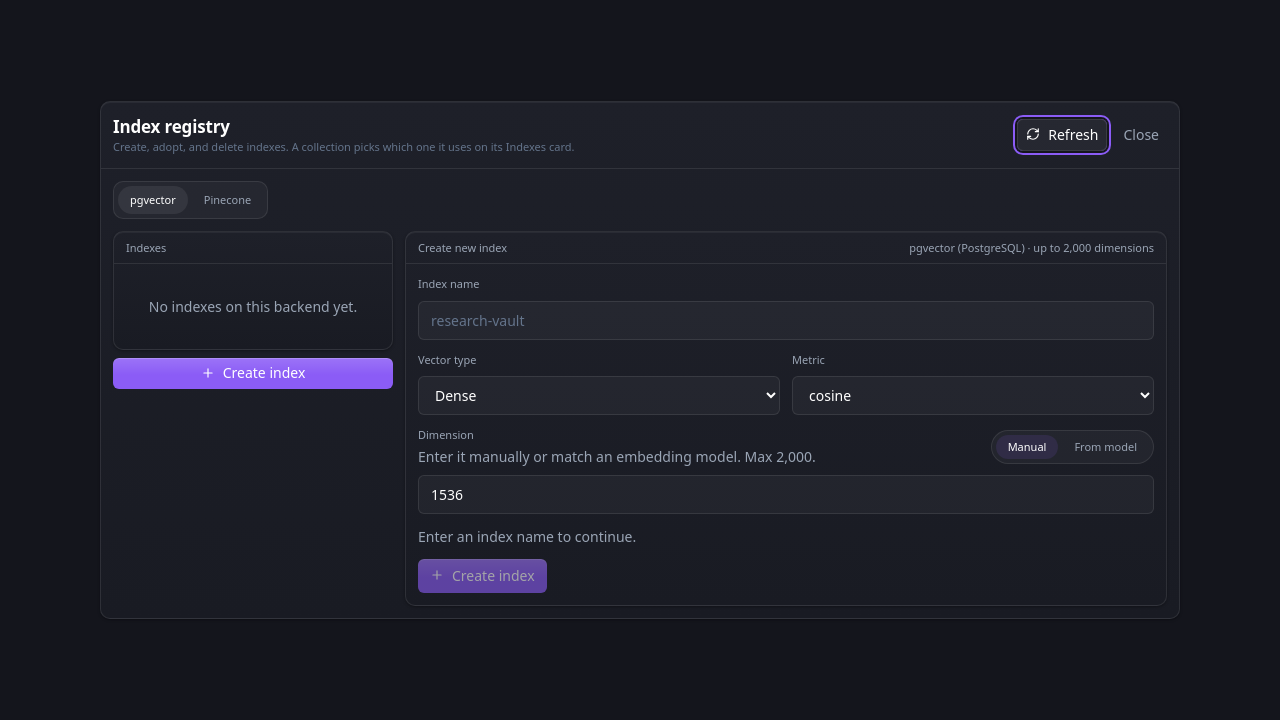
Test: IndexRegistryModal › clears a stale error banner when a create retry succeeds
The image size is (1280, 720).
In the field with placeholder "research-vault": coordinates (786, 320) [418,301,1154,340], type "index"
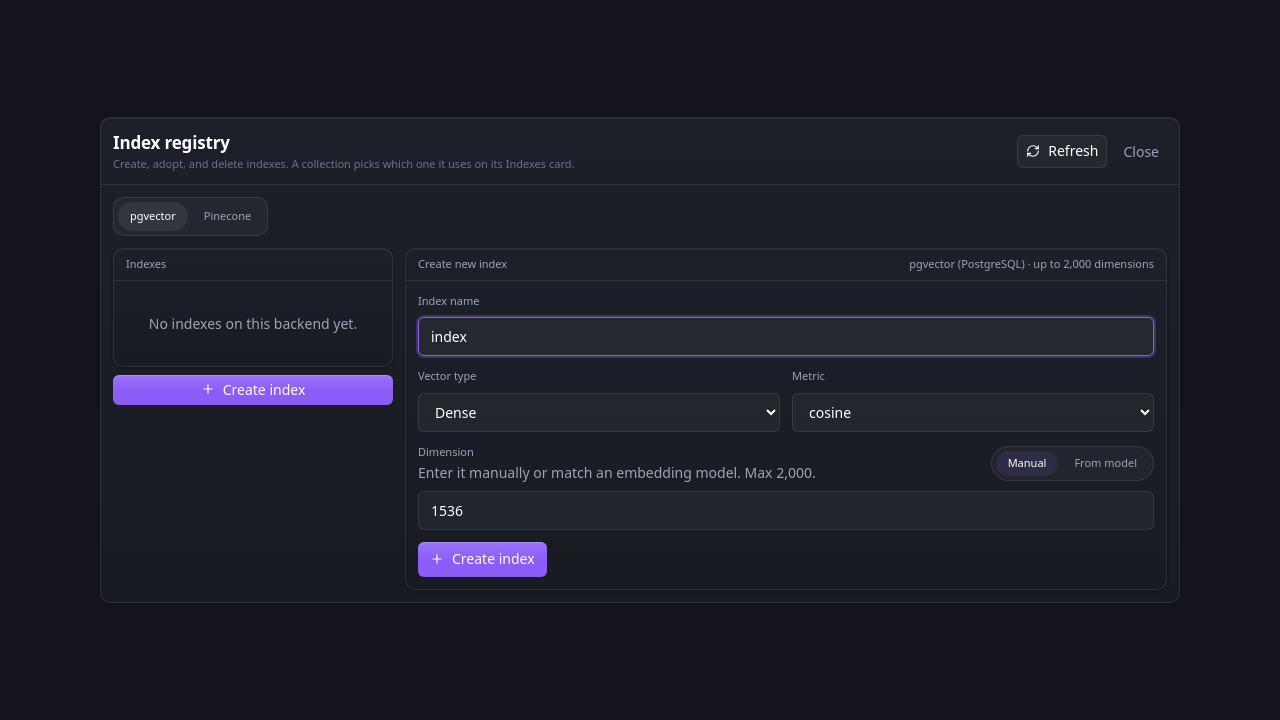
Click the button "Create index" below "Vector type": coordinates (482, 560) [418,542,547,577]
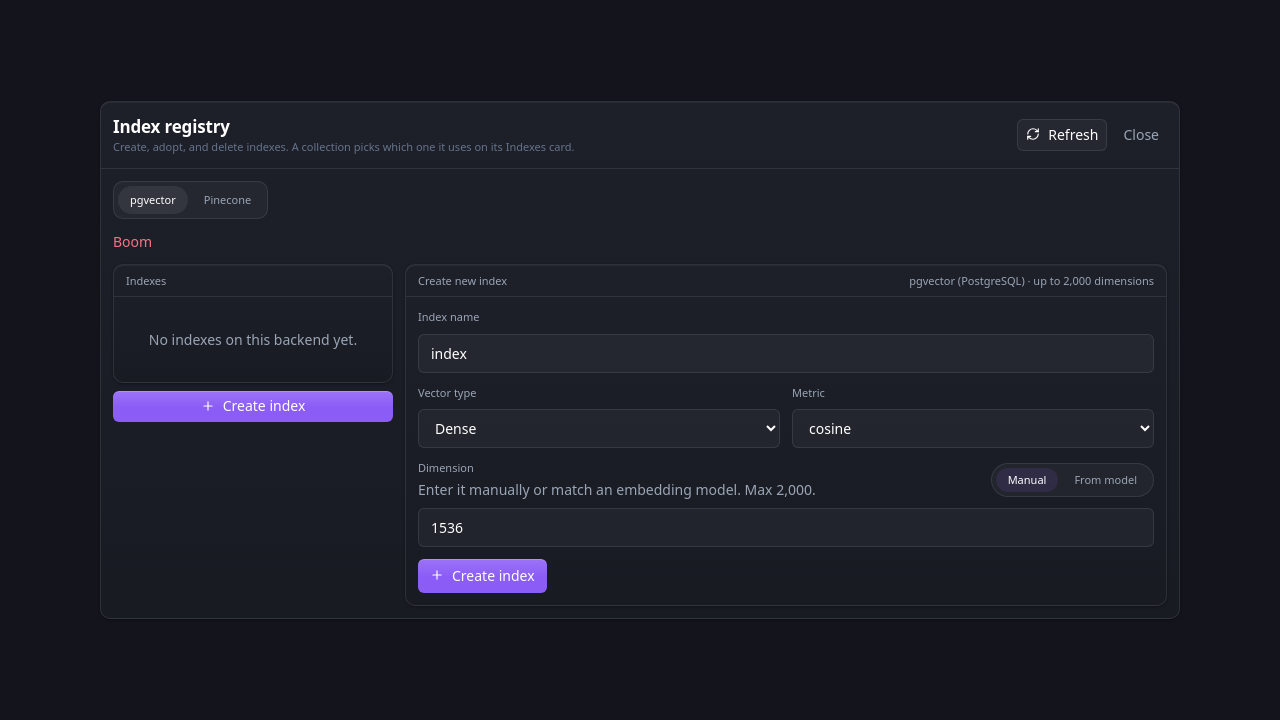
Expected: the text "Boom" is shown, [113,232,152,251]
Click the button "Create index" below "Vector type": coordinates (482, 576) [418,559,547,593]
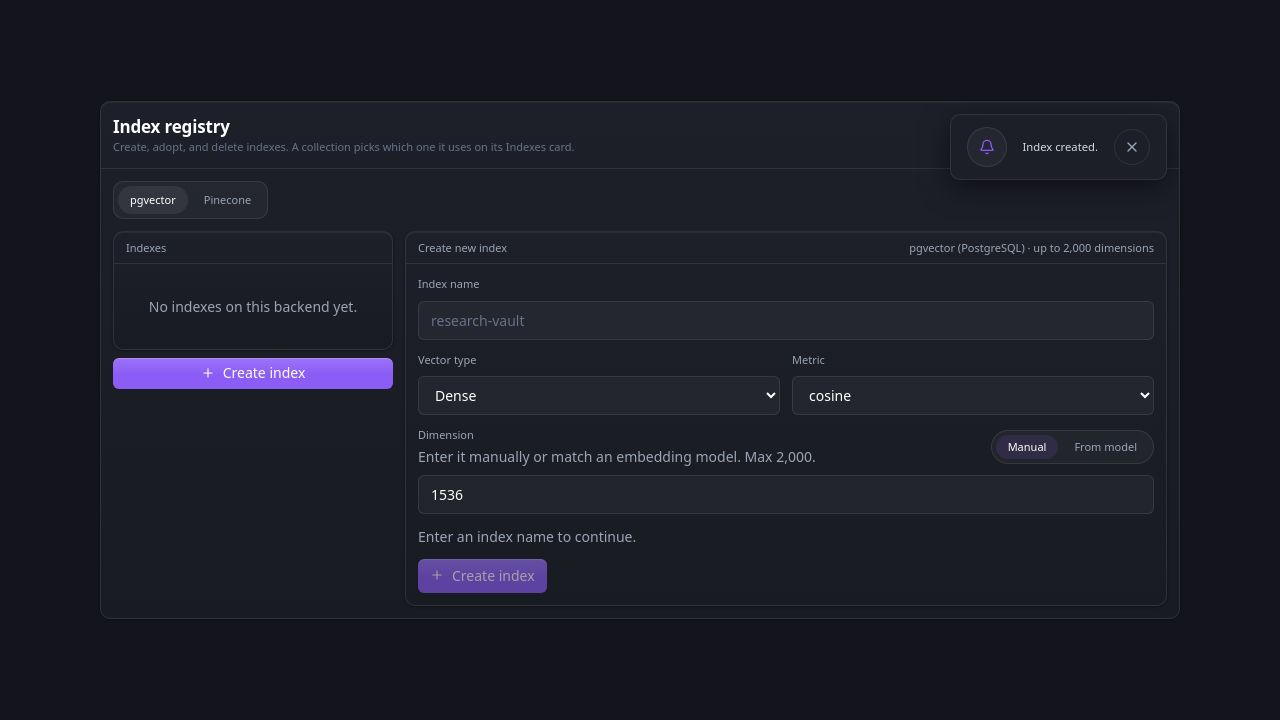
Expected: the text "Index created." is shown, [1022,139,1098,154]
Expected: the text "Boom" is gone
